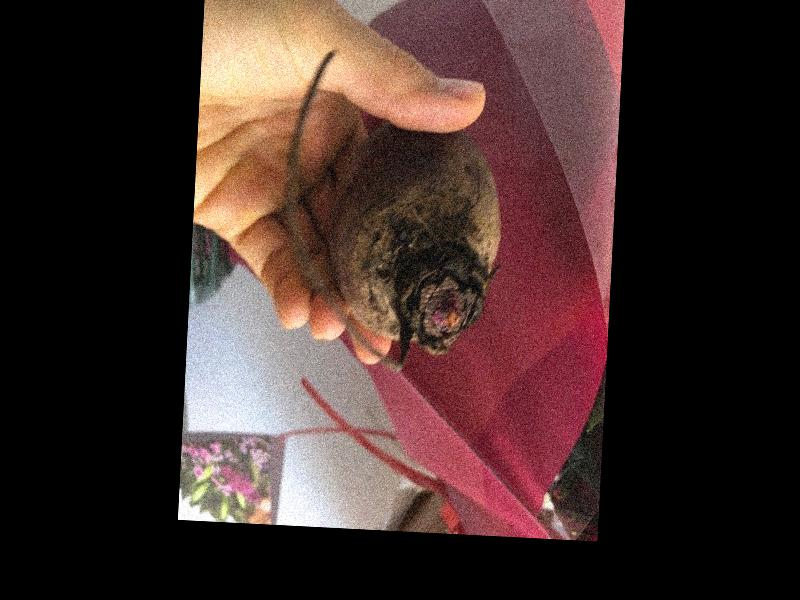Beet: (278, 47, 509, 378)
